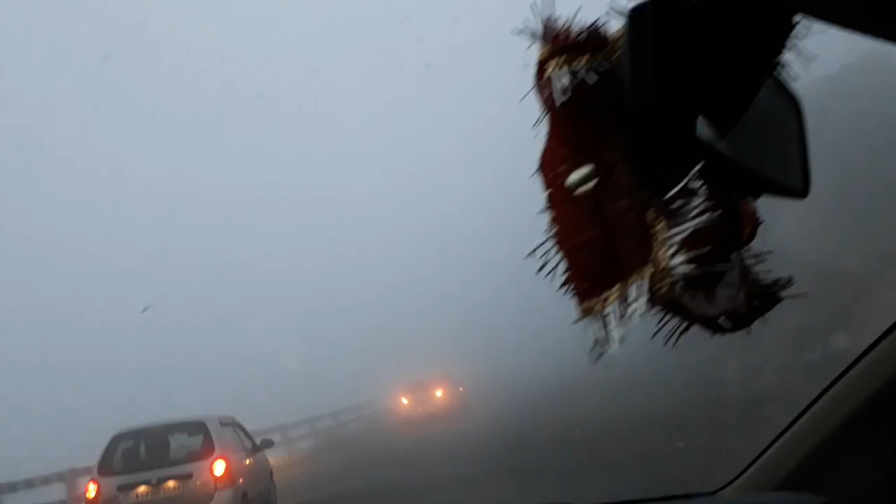car: (83, 413, 277, 504), (398, 375, 456, 418)
